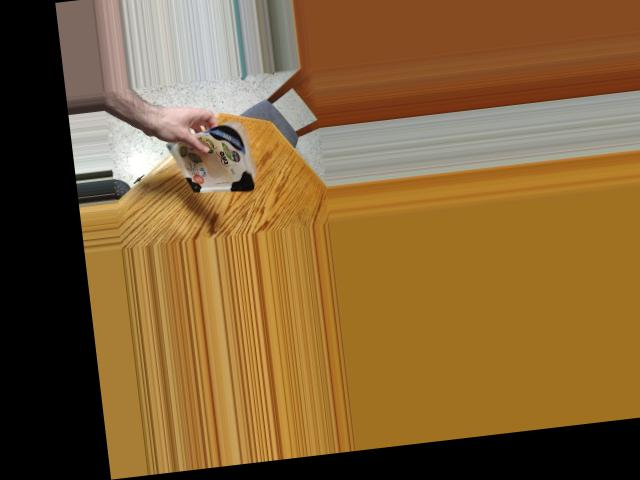cheese: (180, 117, 261, 194)
